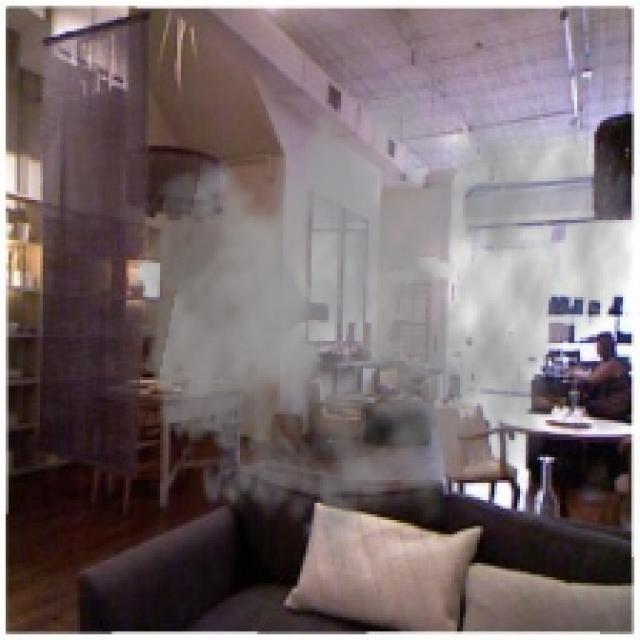smoke: (120, 31, 637, 568)
